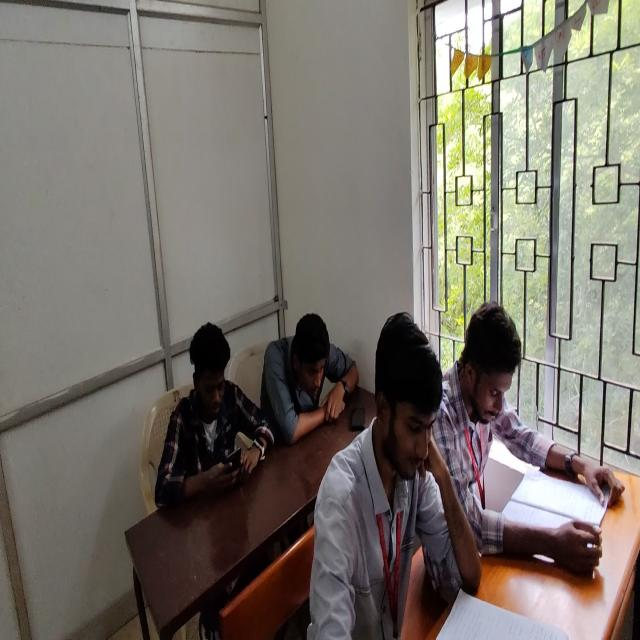reading: (308, 315, 488, 637), (432, 299, 630, 586)
sleeping: (261, 312, 353, 447)
using_mobile: (154, 320, 278, 508)
